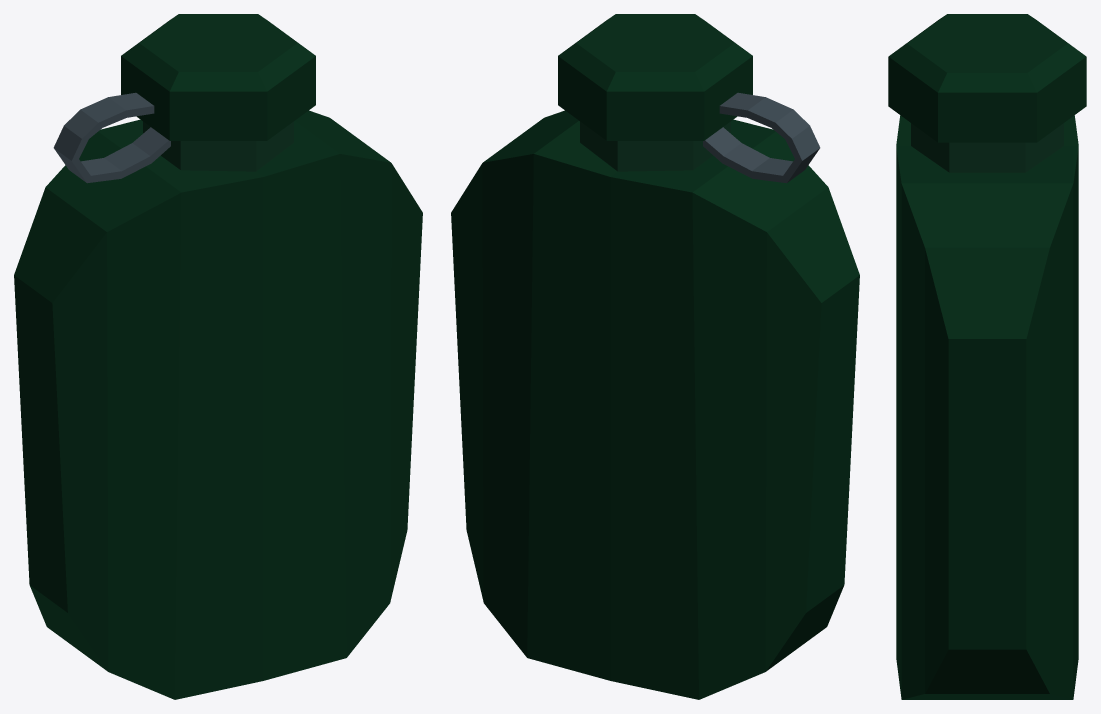
Rendered from Water_Bottle[Survival].fbx.
The picture shows the model from 3 angles, left to right: view 1: azimuth 30°, elevation 25°; view 2: azimuth 150°, elevation 25°; view 3: azimuth 270°, elevation 25°; orthographic projection.
Visible parts, largest first — view 1: Water_Bottle [Survival]; view 2: Water_Bottle [Survival]; view 3: Water_Bottle [Survival].
Boxes of the visible parts, left/top/right/bottom form: Water_Bottle [Survival]: left=14, top=14, right=422, bottom=699; Water_Bottle [Survival]: left=451, top=14, right=859, bottom=699; Water_Bottle [Survival]: left=888, top=14, right=1086, bottom=699.
Size of the model in its own units: 25.27 by 39.42 by 11.53.
